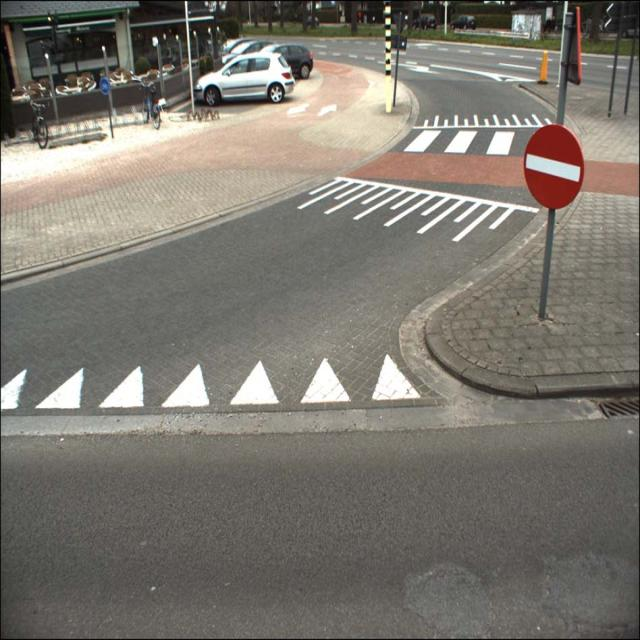girisyok: (524, 124, 585, 208)
